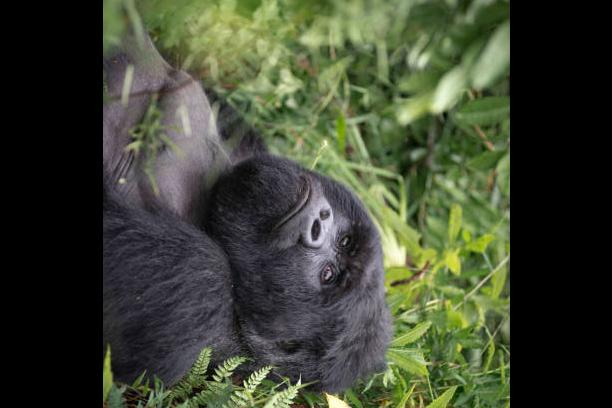goriile_montagne: (102, 33, 419, 408)
